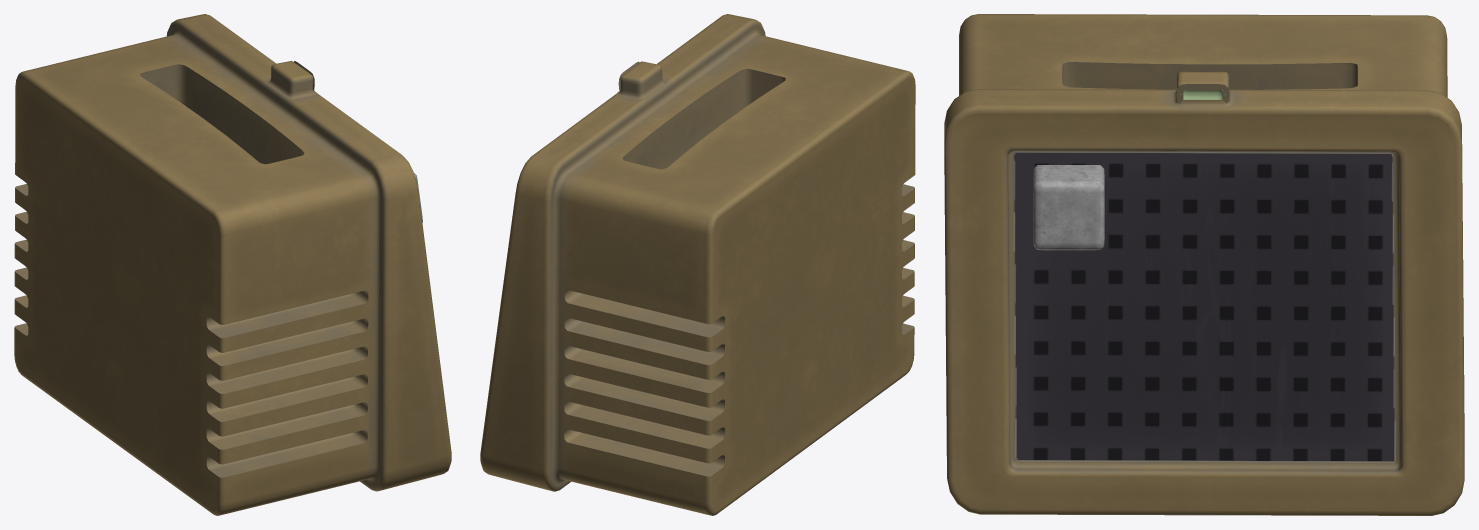
The model's file is clockin.fbx.
3 views of the same model, side by side, from view 1: azimuth 30°, elevation 25°; view 2: azimuth 150°, elevation 25°; view 3: azimuth 270°, elevation 25° (orthographic). The views are drawn at different scales.
Parts seen in each view (by area): view 1: Cube.013; view 2: Cube.013; view 3: Cube.013, Cube.015.
Boxes of the visible parts, x1=… form: Cube.013: x1=14, y1=14, x2=451, y2=515; Cube.013: x1=480, y1=14, x2=915, y2=515; Cube.013: x1=944, y1=14, x2=1464, y2=515; Cube.015: x1=1033, y1=165, x2=1104, y2=250.
Bounding box in the file's own units: 50.87 × 72.24 × 83.03.
